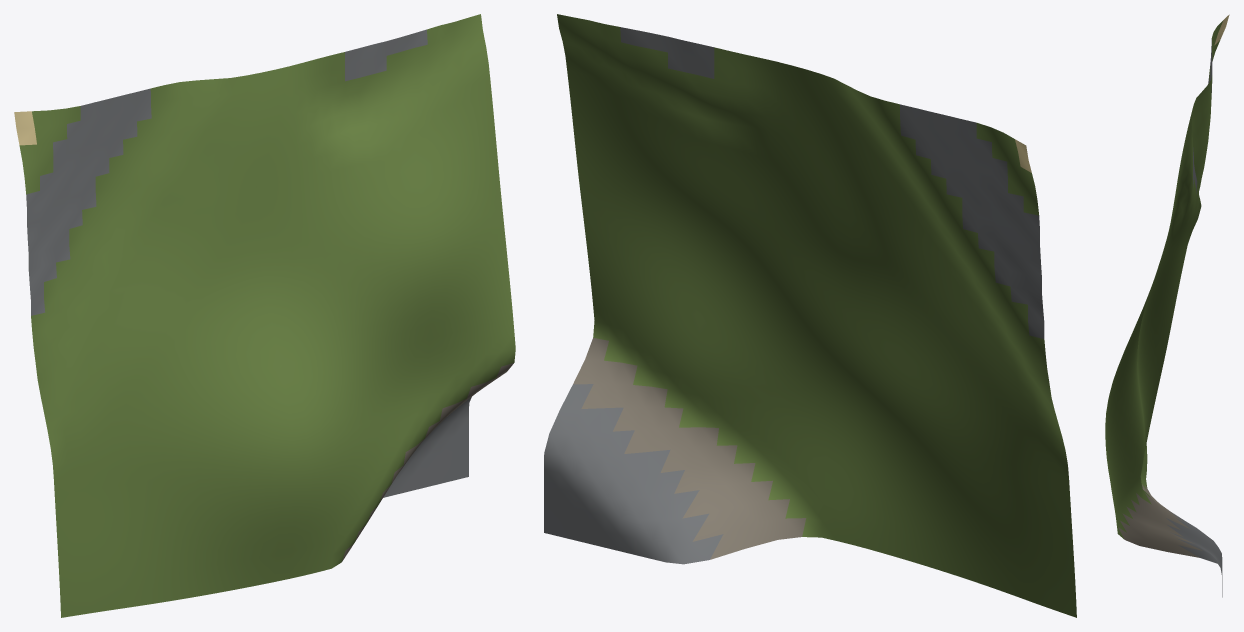
Rendered from island_terrain_02_05.obj.
3 renders of one model, left to right at view 1: azimuth 30°, elevation 25°; view 2: azimuth 150°, elevation 25°; view 3: azimuth 270°, elevation 25°, orthographic. The views are drawn at different scales.
Visible parts, largest first — view 1: island_terrain_02_05; view 2: island_terrain_02_05; view 3: island_terrain_02_05.
Part boxes in pixels (x1=…): island_terrain_02_05: x1=14, y1=14, x2=515, y2=617; island_terrain_02_05: x1=544, y1=14, x2=1076, y2=617; island_terrain_02_05: x1=1105, y1=14, x2=1229, y2=597.
Size of the model in its own units: 256 by 256 by 70.07.
